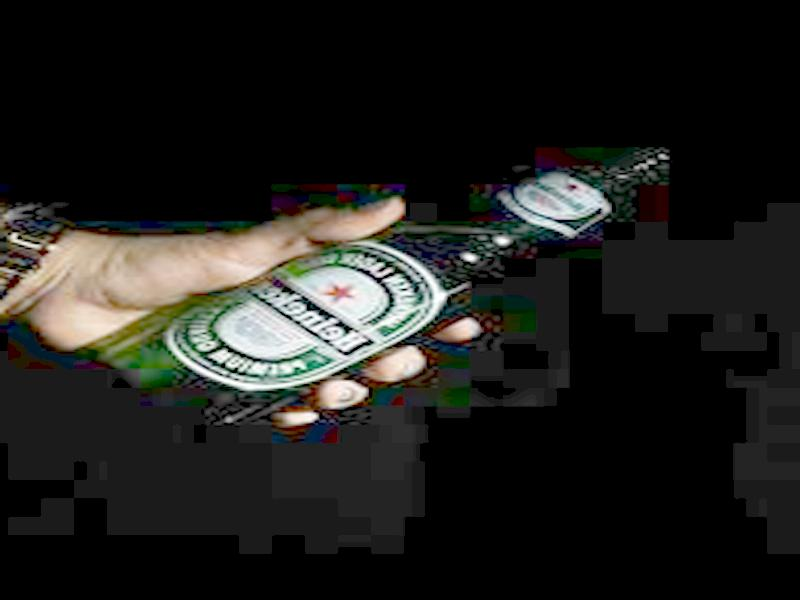Beer: (73, 141, 692, 434)
